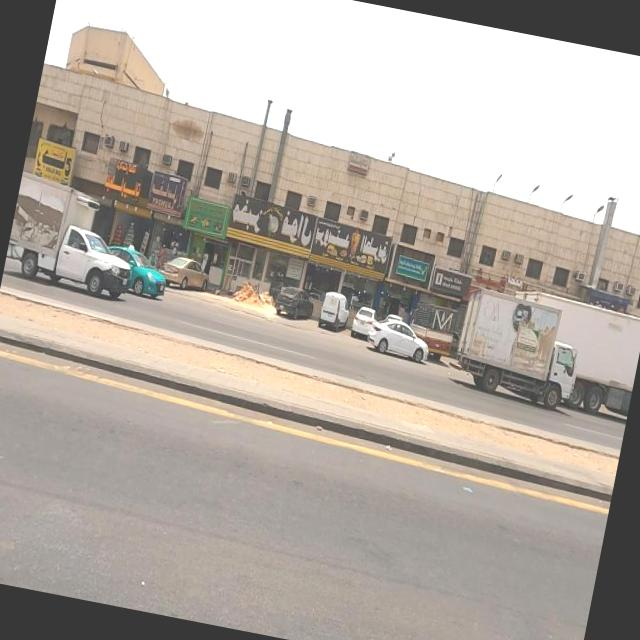debris: (166, 172, 256, 270)
